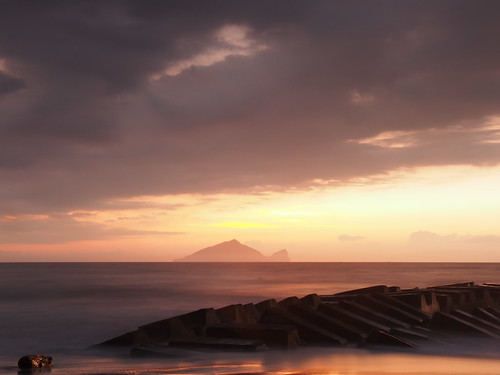turtleIsland: (171, 239, 291, 265)
